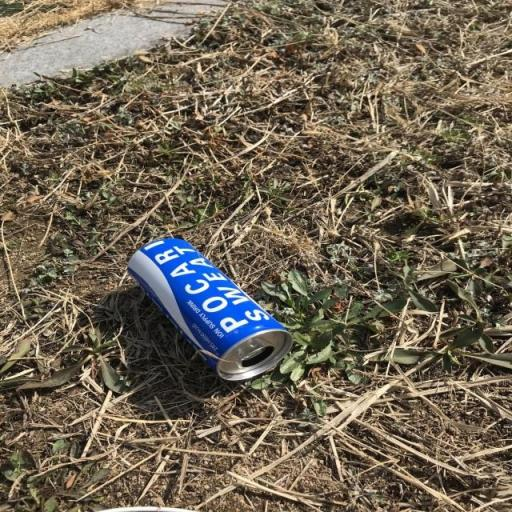metal: (96, 195, 302, 413)
